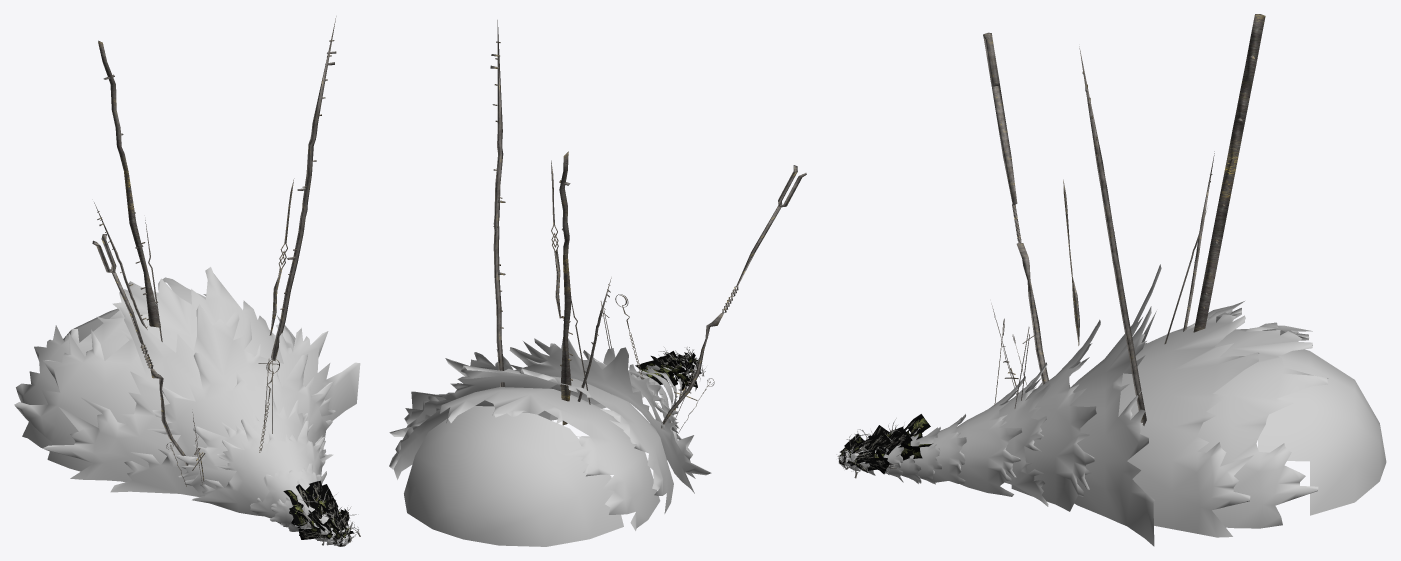
3 renders of one model, left to right at view 1: azimuth 30°, elevation 25°; view 2: azimuth 150°, elevation 25°; view 3: azimuth 270°, elevation 25°, orthographic. The views are drawn at different scales.
Visible parts, largest first — view 1: Material_#121, Material_#123, Material_#133; view 2: Material_#121, Material_#133, Material_#123; view 3: Material_#121, Material_#123, Material_#133.
Boxes of the visible parts, box(x1,y1,x2,y2) form: Material_#121: box(14, 16, 360, 546); Material_#123: box(289, 480, 350, 546); Material_#133: box(283, 484, 353, 539); Material_#121: box(389, 20, 806, 546); Material_#133: box(635, 353, 698, 389); Material_#123: box(651, 351, 701, 390); Material_#121: box(836, 14, 1386, 546); Material_#123: box(839, 417, 919, 471); Material_#133: box(840, 414, 932, 474).
Size of the model in its own units: 508 by 618 by 638.
